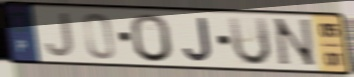0: (81, 11, 116, 61)
J: (181, 16, 215, 64), (44, 11, 77, 59)
N: (271, 17, 320, 69)
O: (129, 12, 175, 64)
U: (225, 15, 274, 68)
